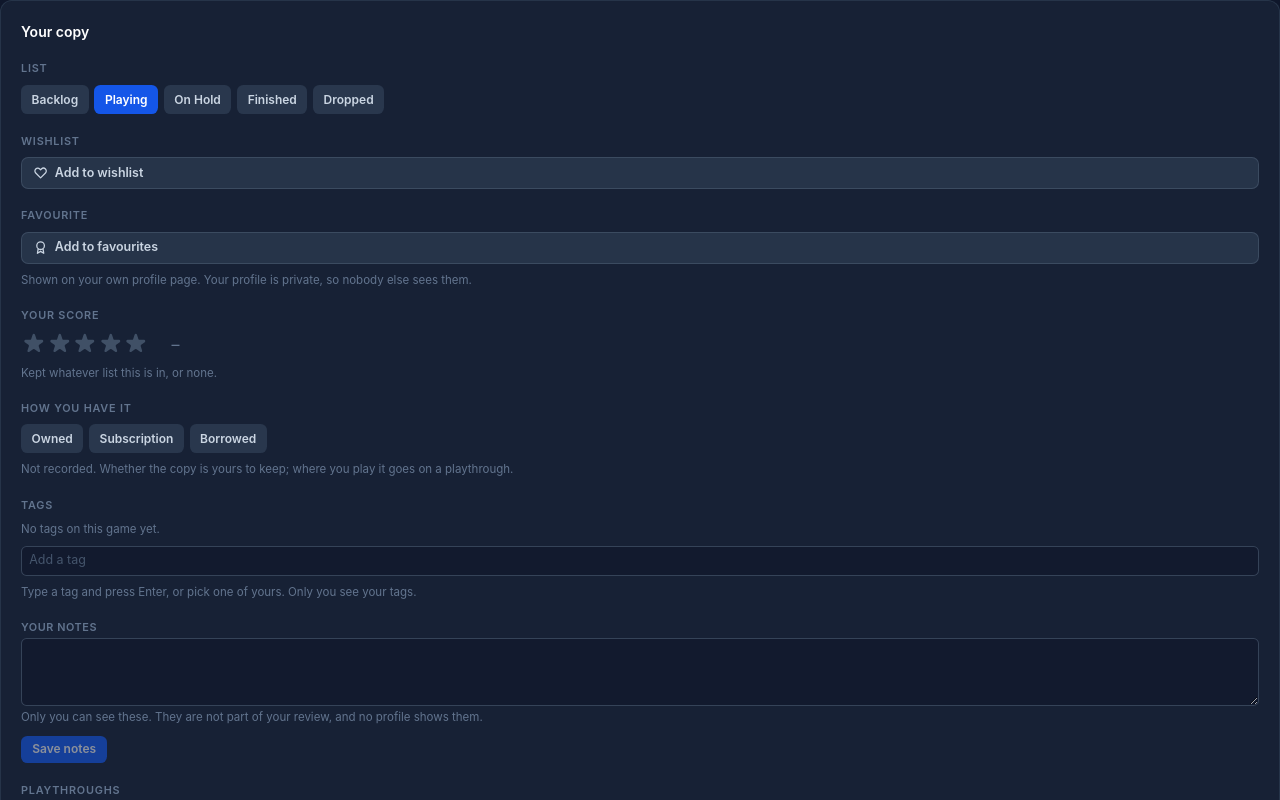
Scenario: GameUserPanel list placement › says so when taking the game out is refused
Expected: the element named "Your score for Celeste" is enabled, [21,331,179,356]
Click the button "Playing". click: coordinates (126, 100)
box: [94,85,158,114]
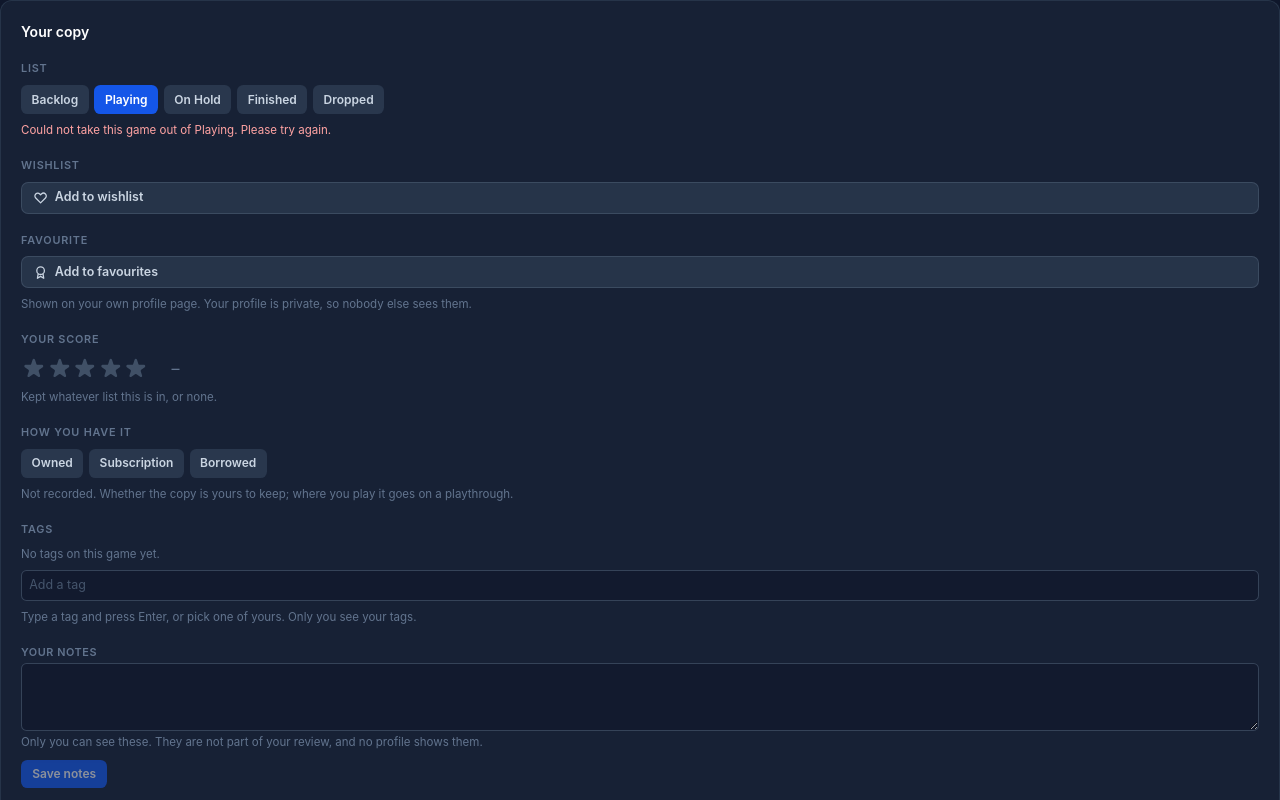
Expected: the message reads "Could not take this game out of Playing. Please try again.", [21,123,331,137]
